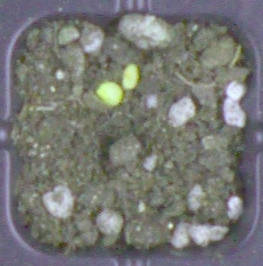pepper seed: (32, 27, 157, 134), (52, 18, 191, 108)
